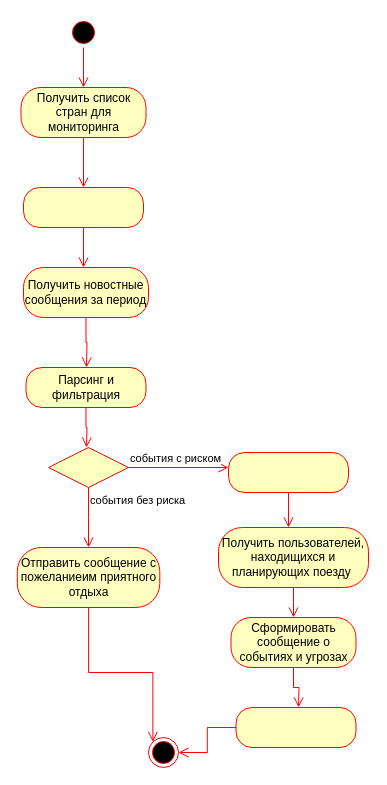
Some shapes in this 387 by 785 pixel diagram are drawn without their labels. Each missing label, with the centre of its shape:
Запросить API новостей: point (83, 207)
Определить уровень риска: point (288, 472)
Отправить уведомление: point (295, 727)
